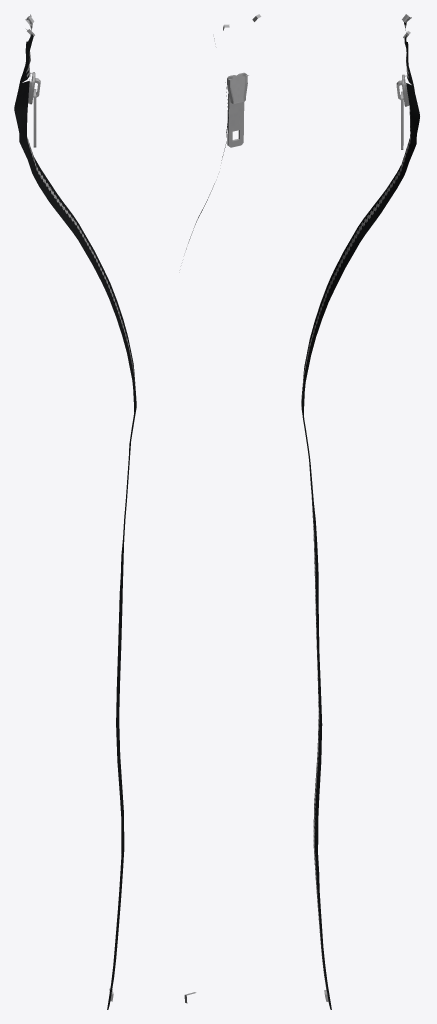
File: aletheia_jumpsuit_zipper_v2.glb
3 views of the same model, side by side, from view 1: azimuth 90°, elevation 25°; view 2: azimuth 210°, elevation 25°; view 3: azimuth 270°, elevation 25° (orthographic). The views are drawn at different scales.
Visible parts, largest first — view 1: zip_LOD0; view 2: zip_LOD0; view 3: zip_LOD0.
Boxes of the visible parts, <box> form: zip_LOD0: <box>14,14,136,1009</box>; zip_LOD0: <box>184,14,261,1003</box>; zip_LOD0: <box>301,14,419,1009</box>.
Size of what is drawn, in the model's own units: 0.0333 by 0.5487 by 0.0619.
Materials: 1 (1 with a texture image).
